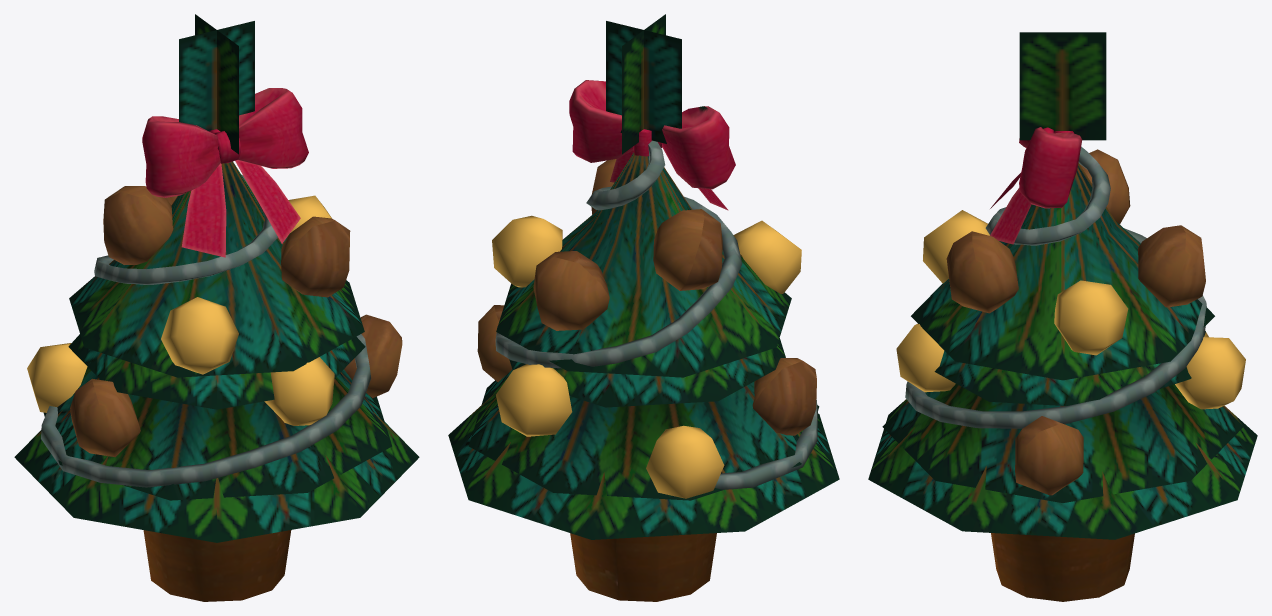
The model's file is ChrismasTree_Small.glb.
3 views of the same model, side by side, from view 1: azimuth 30°, elevation 25°; view 2: azimuth 150°, elevation 25°; view 3: azimuth 270°, elevation 25° (orthographic).
Parts seen in each view (by area): view 1: Bowl00_low__mReBody; view 2: Bowl00_low__mReBody; view 3: Bowl00_low__mReBody.
Part boxes in pixels (x1=…): Bowl00_low__mReBody: x1=14, y1=14, x2=419, y2=601; Bowl00_low__mReBody: x1=448, y1=14, x2=839, y2=601; Bowl00_low__mReBody: x1=868, y1=32, x2=1257, y2=601.
Size of the model in its own units: 0.5387 by 0.8142 by 0.5312.
Materials: 1 (1 with a texture image).
